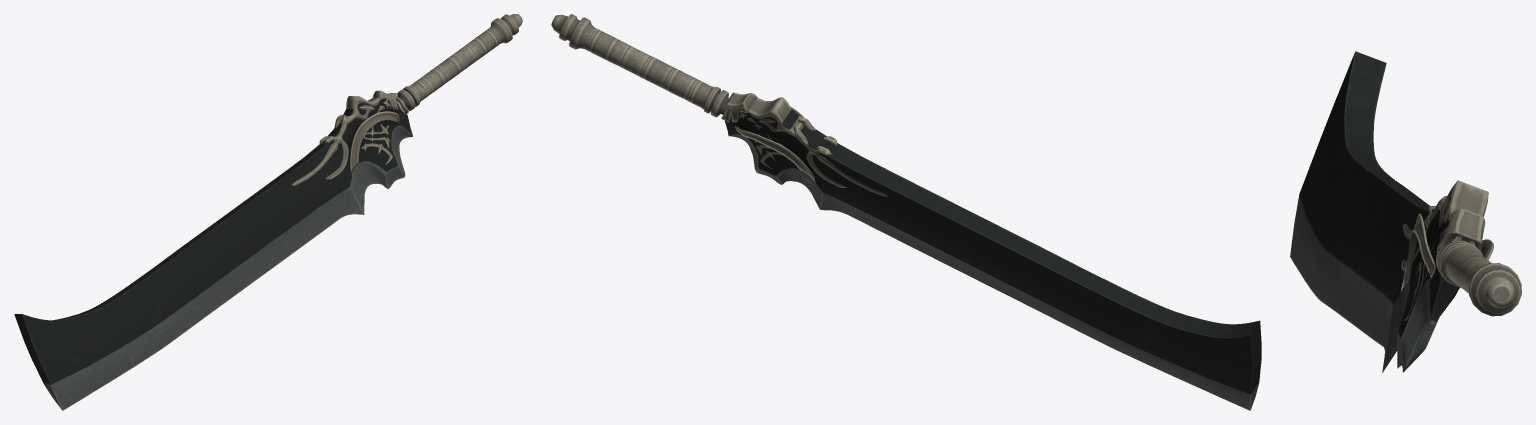
3 renders of one model, left to right at view 1: azimuth 30°, elevation 25°; view 2: azimuth 150°, elevation 25°; view 3: azimuth 270°, elevation 25°, orthographic. The views are drawn at different scales.
Visible parts, largest first — view 1: Blade_low, Garda_low; view 2: Blade_low, Garda_low; view 3: Blade_low, Garda_low.
Part boxes in pixels (x1=…): Blade_low: x1=14, y1=90, x2=412, y2=410; Garda_low: x1=396, y1=14, x2=522, y2=113; Blade_low: x1=725, y1=92, x2=1261, y2=410; Garda_low: x1=551, y1=14, x2=731, y2=122; Blade_low: x1=1290, y1=51, x2=1493, y2=373; Garda_low: x1=1436, y1=235, x2=1521, y2=316.
Bounding box in the file's own units: 2.1 × 0.8851 × 0.3937.
1 material, 1 textured.
